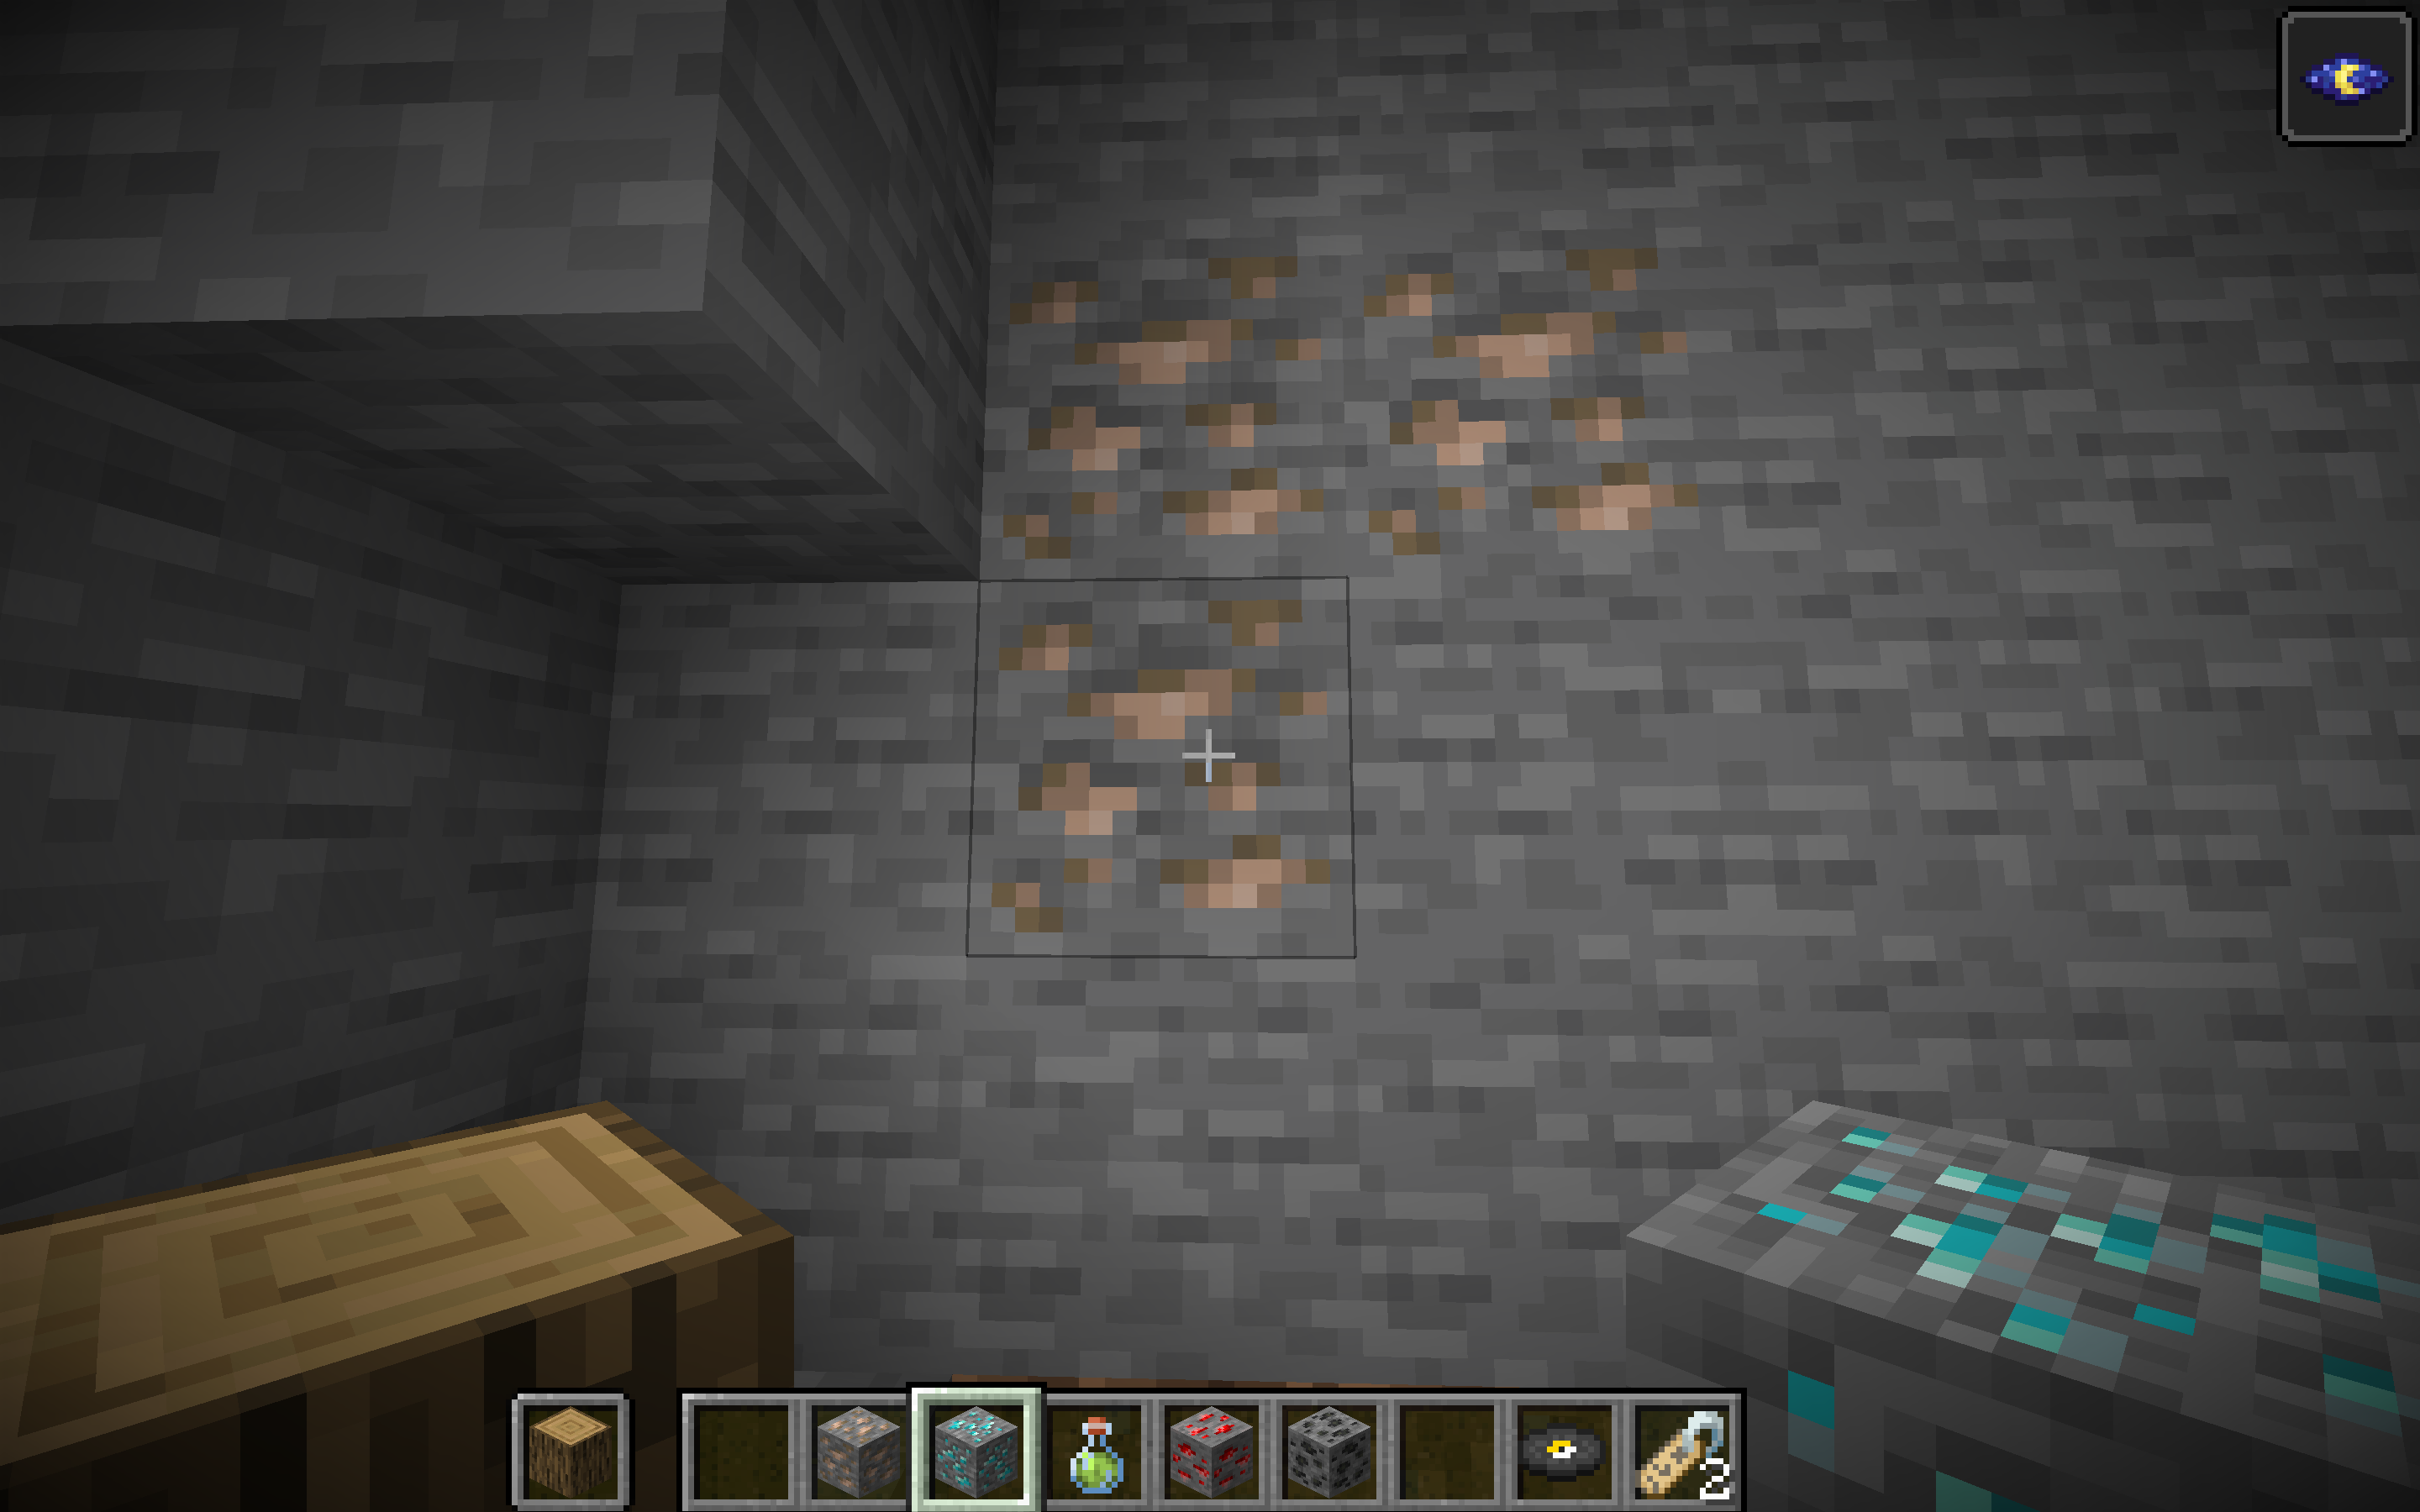iron: (713, 165, 1995, 1075)
